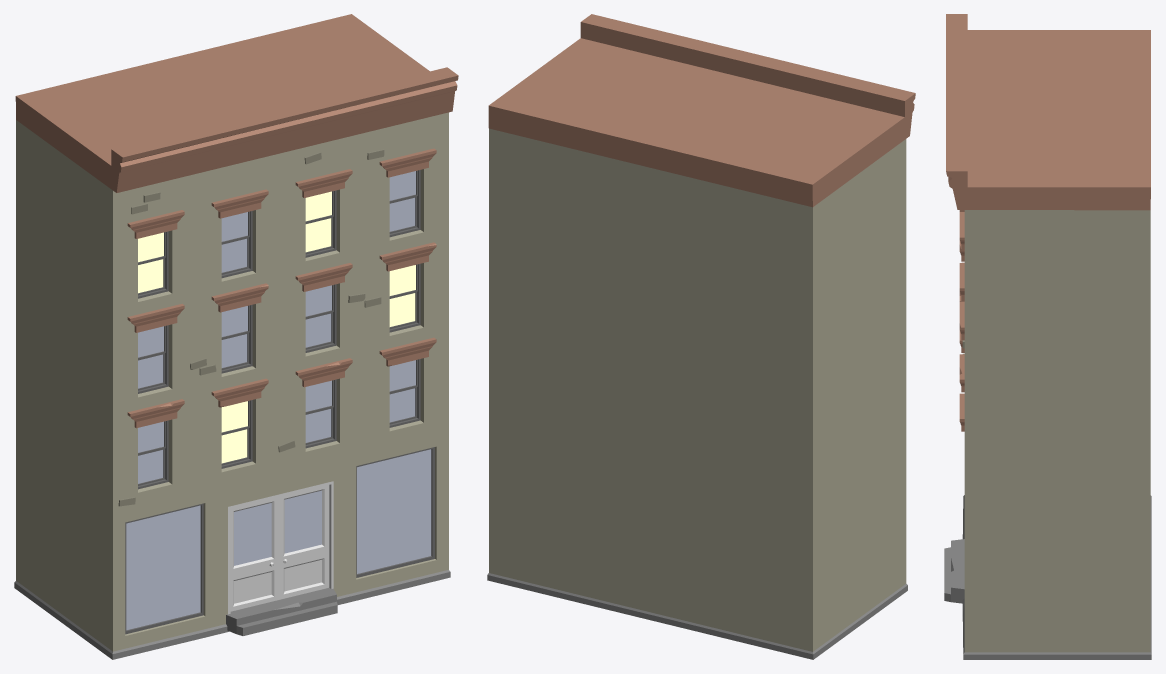
Rendered from building_00.glb.
3 views of the same model, side by side, from view 1: azimuth 30°, elevation 25°; view 2: azimuth 150°, elevation 25°; view 3: azimuth 270°, elevation 25° (orthographic). The views are drawn at different scales.
Parts seen in each view (by area): view 1: green; view 2: green; view 3: green.
Part boxes in pixels (box(x1,y1,x2,y2)): green: box(14, 14, 458, 659); green: box(487, 14, 915, 659); green: box(944, 14, 1151, 659).
Size of the model in its own units: 2.42 by 3.48 by 1.34.
